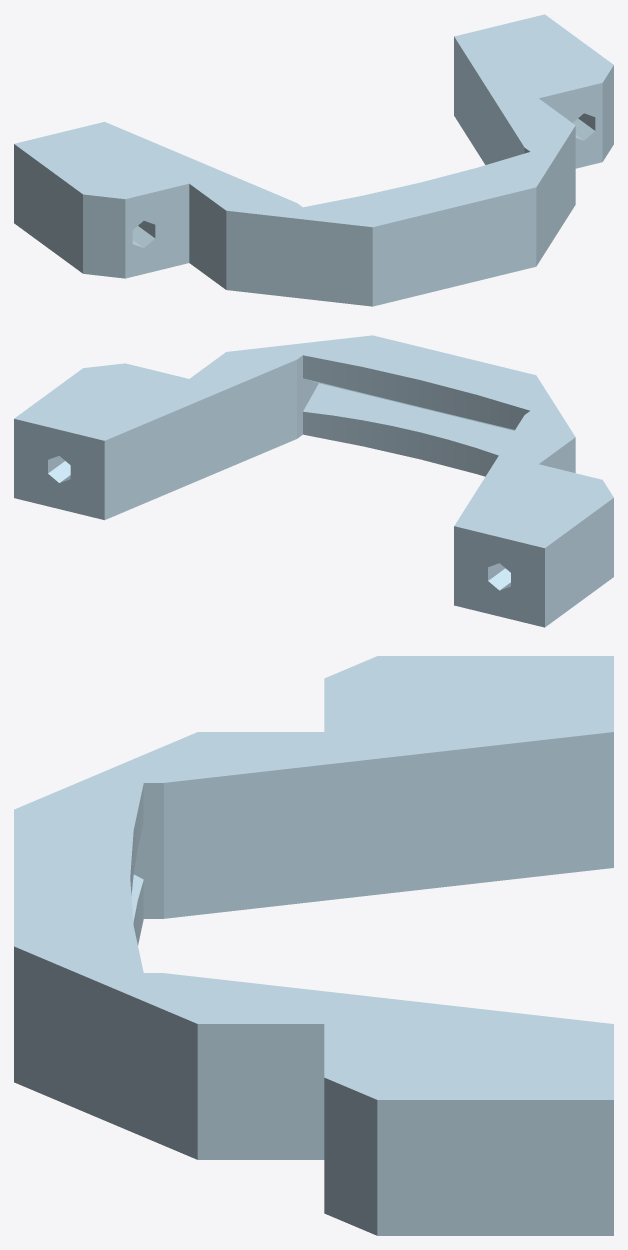
The model's file is Holder-R250.gltf.
3 views of the same model, one above another, from view 1: azimuth 30°, elevation 25°; view 2: azimuth 150°, elevation 25°; view 3: azimuth 270°, elevation 25° (orthographic). The views are drawn at different scales.
Visible parts, largest first — view 1: Part 1; view 2: Part 1; view 3: Part 1.
Part boxes in pixels (left/top/right/bottom): Part 1: left=14, top=14, right=613, bottom=306; Part 1: left=14, top=335, right=613, bottom=627; Part 1: left=14, top=656, right=613, bottom=1235.
Size of the model in its own units: 0.14 by 0.02 by 0.08.
